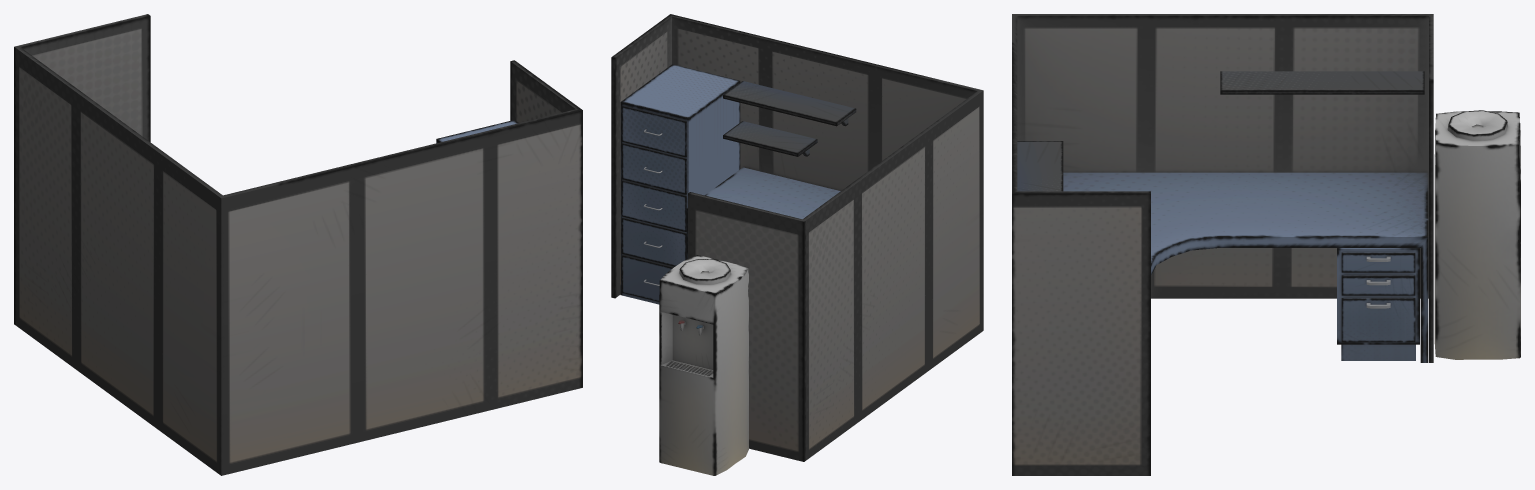
File: DeskUpdated.glb
3 views of the same model, side by side, from view 1: azimuth 30°, elevation 25°; view 2: azimuth 150°, elevation 25°; view 3: azimuth 270°, elevation 25° (orthographic). The views are drawn at different scales.
Visible parts, largest first — view 1: OfficeWall; view 2: OfficeWall, Cabinet_02, WaterMachine, Desk, Shelf_2, Shelf_3; view 3: OfficeWall, Desk, WaterMachine, Cabinet_01, Shelf_1, Shelf_2.
Part boxes in pixels (box(x1,y1,x2,y2)): OfficeWall: box(14, 14, 582, 475); OfficeWall: box(611, 14, 983, 461); Cabinet_02: box(620, 64, 740, 304); WaterMachine: box(659, 255, 748, 475); Desk: box(686, 167, 840, 258); Shelf_2: box(723, 81, 856, 126); Shelf_3: box(723, 121, 817, 156); OfficeWall: box(1012, 14, 1433, 475); Desk: box(1063, 172, 1428, 362); WaterMachine: box(1434, 110, 1520, 359); Cabinet_01: box(1337, 248, 1419, 360); Shelf_1: box(1220, 71, 1424, 94); Shelf_2: box(1017, 141, 1063, 191).
Size of the model in its own units: 10.26 by 7.53 by 12.29.
Materials: 1 (1 with a texture image).
